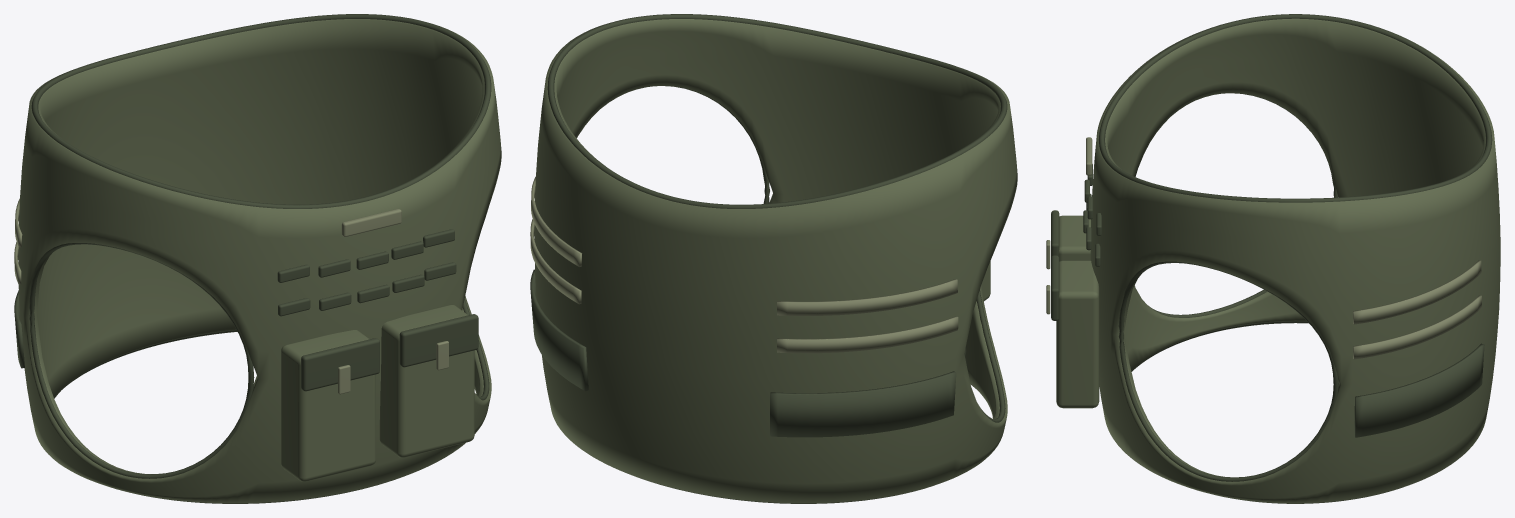
File: goose-wrap-vest-only.glb
The picture shows the model from 3 angles, left to right: view 1: azimuth 30°, elevation 25°; view 2: azimuth 150°, elevation 25°; view 3: azimuth 270°, elevation 25°; orthographic projection. The views are drawn at different scales.
Parts seen in each view (by area): view 1: goose_vest_wrap_mesh; view 2: goose_vest_wrap_mesh; view 3: goose_vest_wrap_mesh.
Part boxes in pixels (x1,y1,x2,y2): goose_vest_wrap_mesh: [14, 14, 501, 503]; goose_vest_wrap_mesh: [530, 14, 1017, 503]; goose_vest_wrap_mesh: [1046, 14, 1500, 503].
Bounding box in the file's own units: 1.04 × 0.748 × 1.01.
